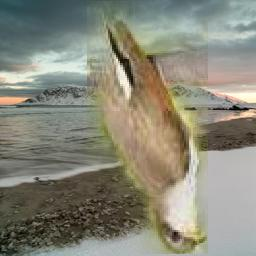Cuckoo: (88, 2, 209, 255)
